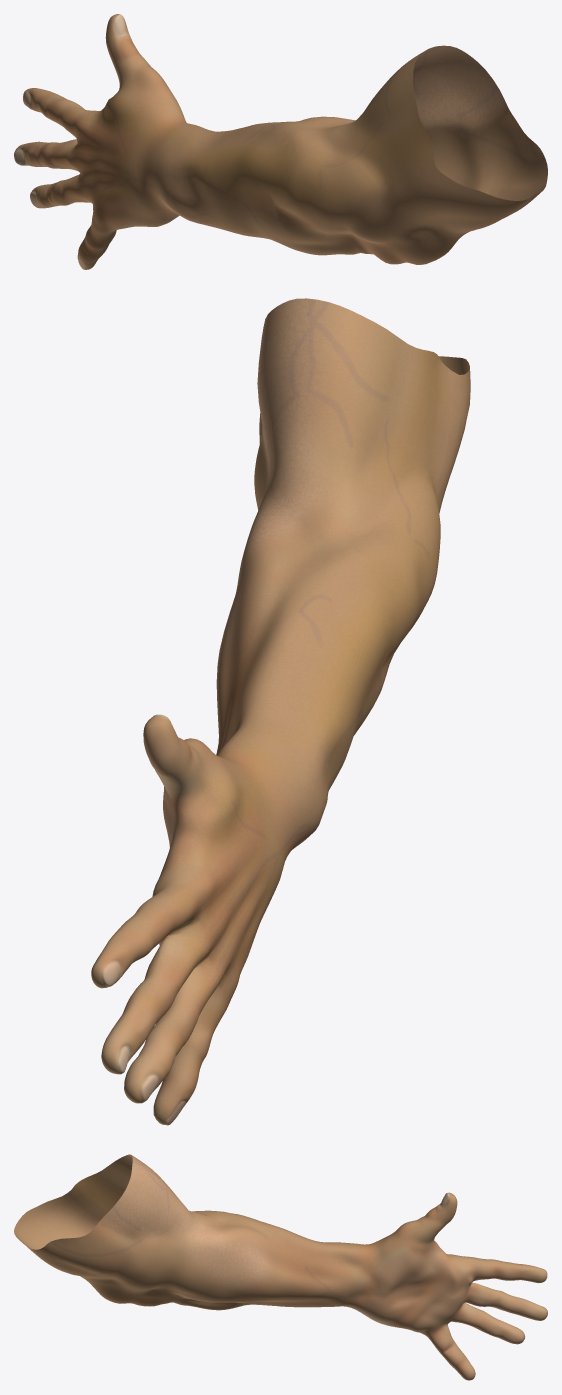
The model's file is hand(1).glb.
3 renders of one model, top to bottom at view 1: azimuth 30°, elevation 25°; view 2: azimuth 150°, elevation 25°; view 3: azimuth 270°, elevation 25°, orthographic. The views are drawn at different scales.
Parts seen in each view (by area): view 1: Plane.001; view 2: Plane.001; view 3: Plane.001.
Boxes of the visible parts, bbox=[...] form: Plane.001: bbox=[14, 14, 547, 269]; Plane.001: bbox=[91, 298, 470, 1125]; Plane.001: bbox=[14, 1154, 547, 1380].
Size of the model in its own units: 0.259 by 0.433 by 0.7864.
Materials: 1 (1 with a texture image).
